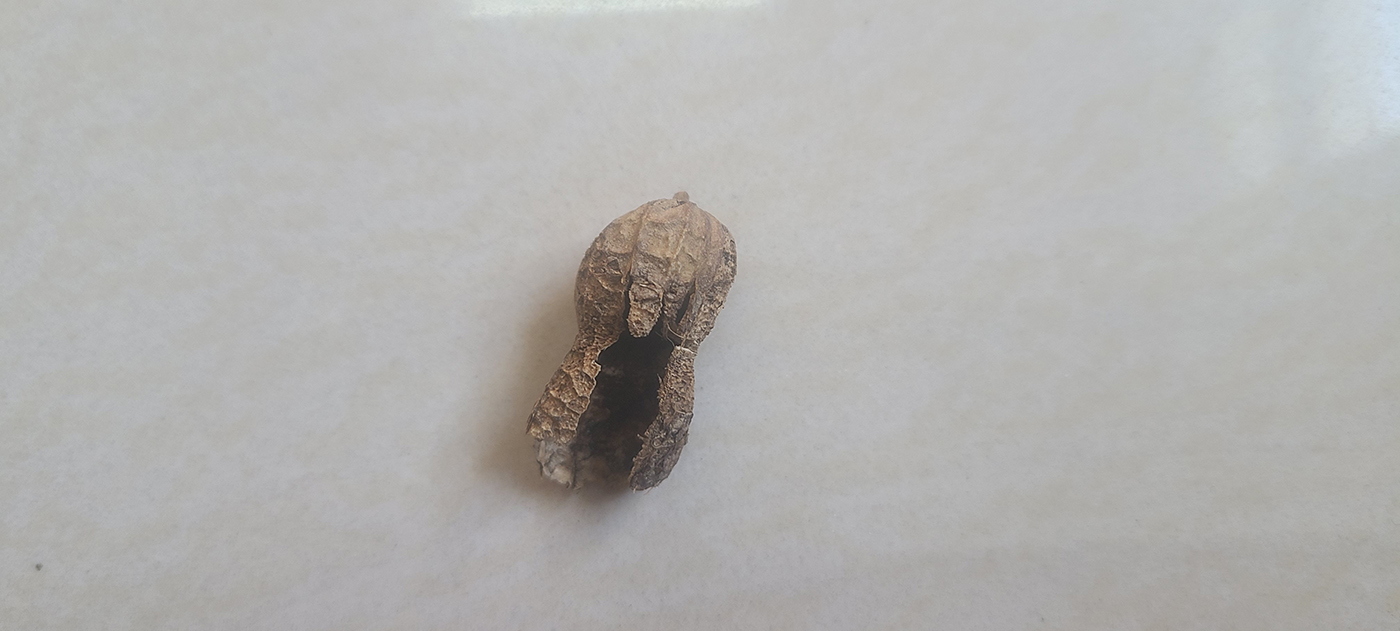l: (526, 194, 735, 497)
